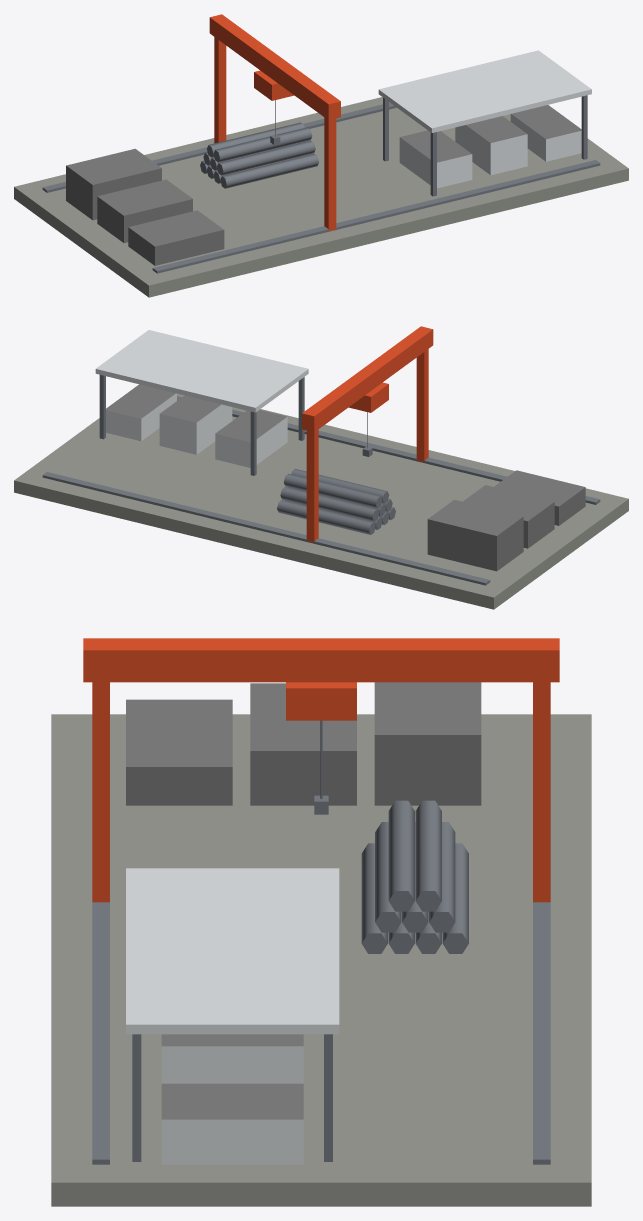
Rendered from mashup-steel-top-prebuilt.fbx.
The picture shows the model from 3 angles, top to bottom: view 1: azimuth 30°, elevation 25°; view 2: azimuth 150°, elevation 25°; view 3: azimuth 270°, elevation 25°; orthographic projection. The views are drawn at different scales.
Parts seen in each view (by area): view 1: a1082/0/mashup-steel-top-prebuilt; view 2: a1082/0/mashup-steel-top-prebuilt; view 3: a1082/0/mashup-steel-top-prebuilt.
Boxes of the visible parts, x1,y1,x2,y2 form: a1082/0/mashup-steel-top-prebuilt: (14,14,628,297); a1082/0/mashup-steel-top-prebuilt: (14,326,628,609); a1082/0/mashup-steel-top-prebuilt: (51,638,591,1206).
Bounding box in the file's own units: 31.2 × 8.8 × 15.2.
